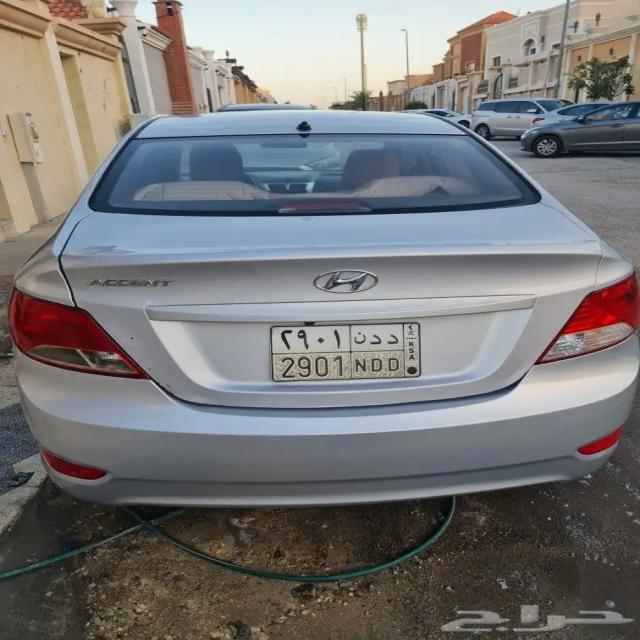license_plate: (272, 353, 407, 380)
